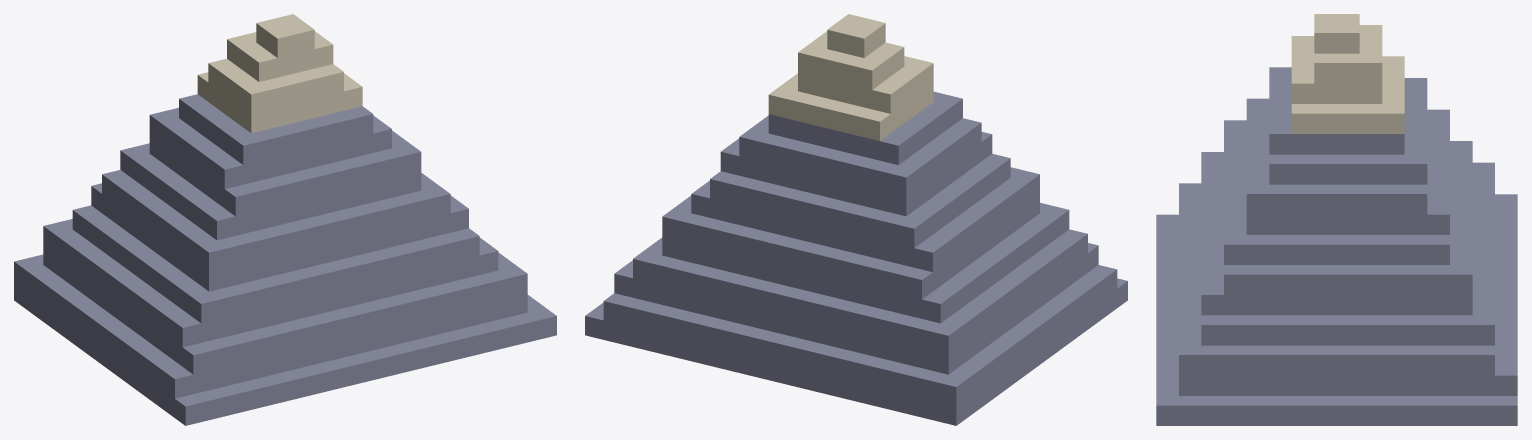
Rendered from mathematics-03.glb.
3 renders of one model, left to right at view 1: azimuth 30°, elevation 25°; view 2: azimuth 150°, elevation 25°; view 3: azimuth 270°, elevation 25°, orthographic. The views are drawn at different scales.
Visible parts, largest first — view 1: Geometry solids; view 2: Geometry solids; view 3: Geometry solids.
Part boxes in pixels (left/top/right/bottom): Geometry solids: left=14, top=14, right=556, bottom=425; Geometry solids: left=585, top=14, right=1127, bottom=425; Geometry solids: left=1156, top=14, right=1517, bottom=425.
Bounding box in the file's own units: 1.6 × 1.2 × 1.28.
